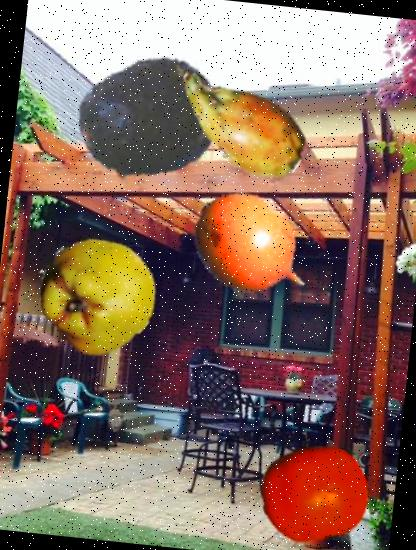Avocado: (71, 41, 225, 195)
Cactus: (159, 45, 318, 204)
Clementine: (254, 434, 373, 550)
Granadilla: (182, 178, 322, 318)
Quince: (32, 230, 162, 360)
